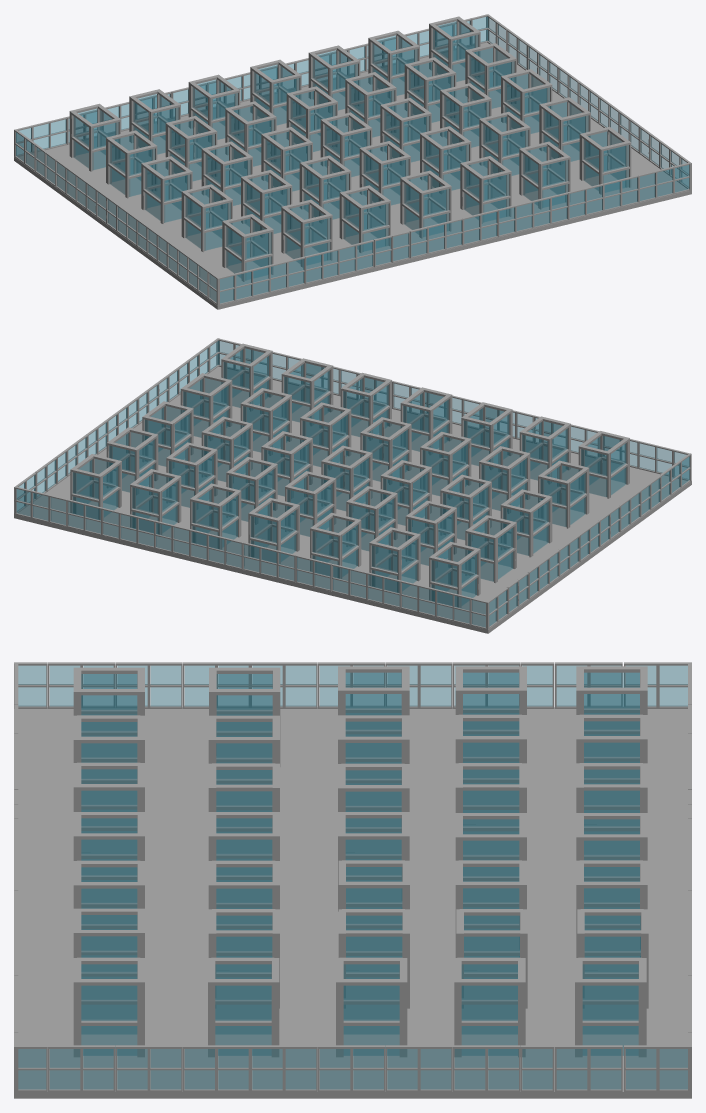
The model's file is SalaMACC.fbx.
3 renders of one model, top to bottom at view 1: azimuth 30°, elevation 25°; view 2: azimuth 150°, elevation 25°; view 3: azimuth 270°, elevation 25°, orthographic. The views are drawn at different scales.
Parts seen in each view (by area): view 1: SalaMAC; view 2: SalaMAC; view 3: SalaMAC.
Boxes of the visible parts, x1,y1,x2,y2 form: SalaMAC: [14, 14, 691, 309]; SalaMAC: [14, 338, 691, 633]; SalaMAC: [14, 662, 691, 1098].
Size of the model in its own units: 67.62 by 6.9 by 50.33.
